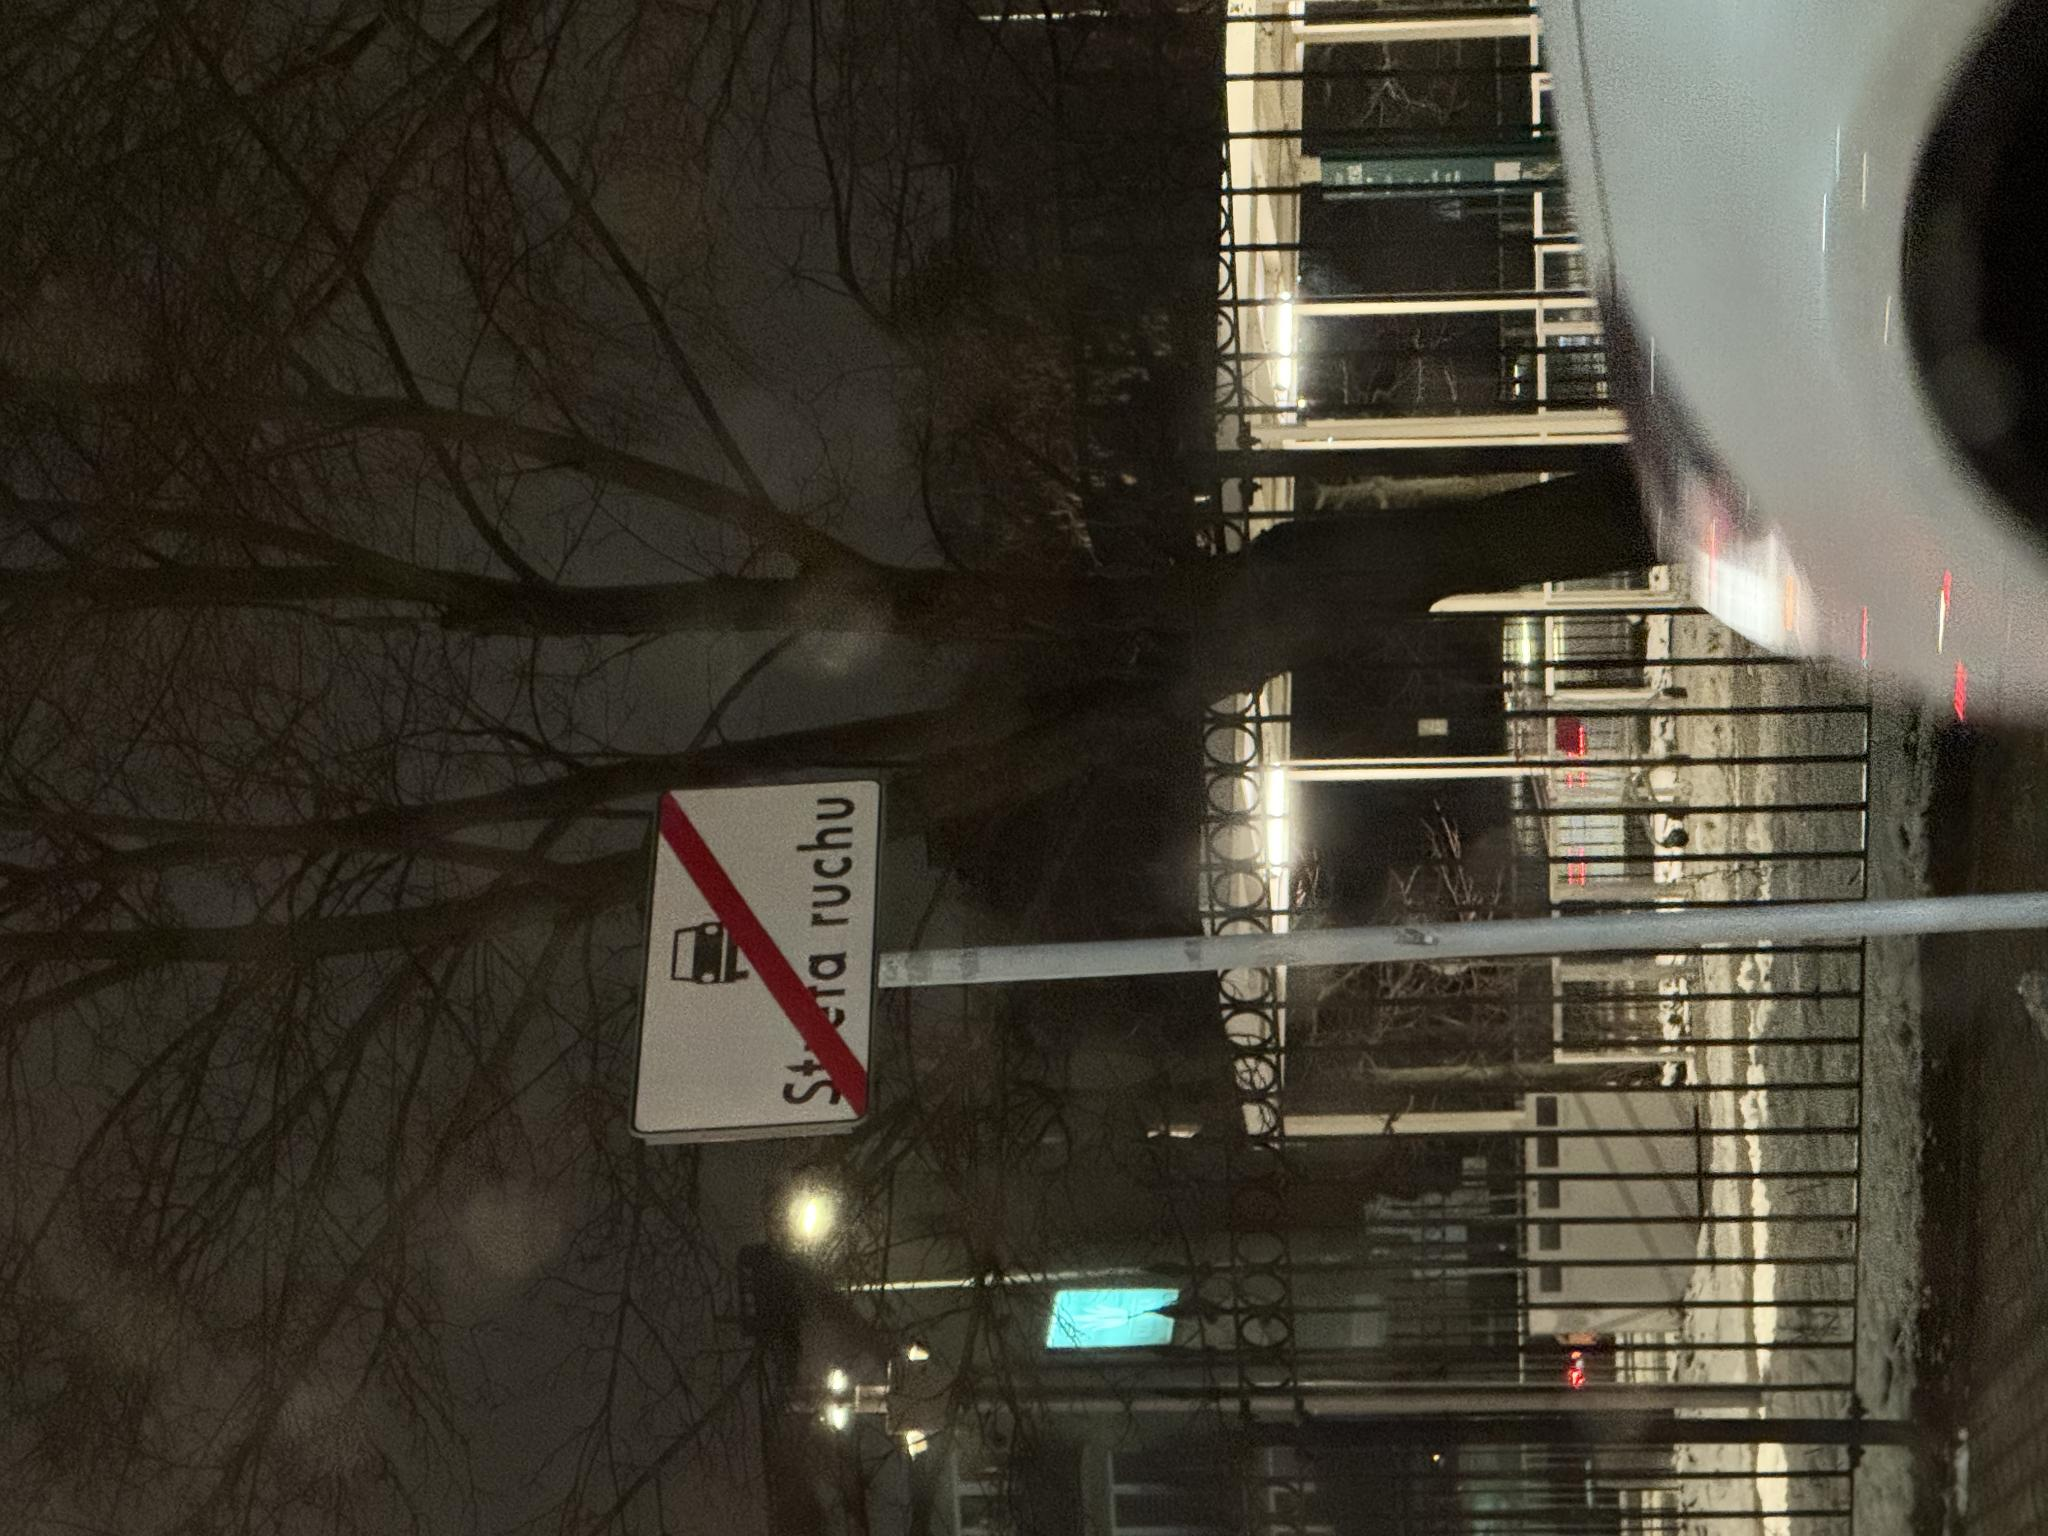information: (384, 628, 758, 891)
